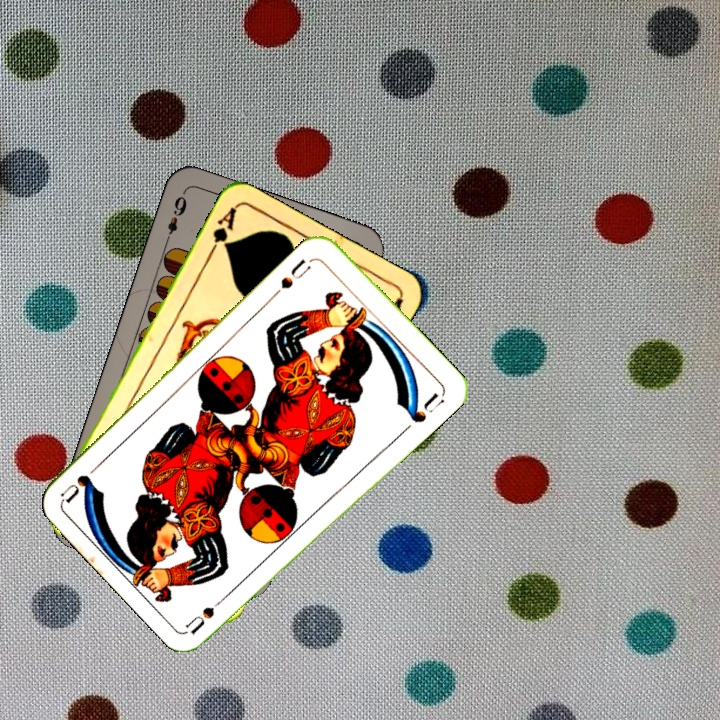E9: (161, 191, 190, 246)
GA: (204, 203, 239, 259)
SU: (183, 588, 233, 635), (276, 255, 314, 292)
